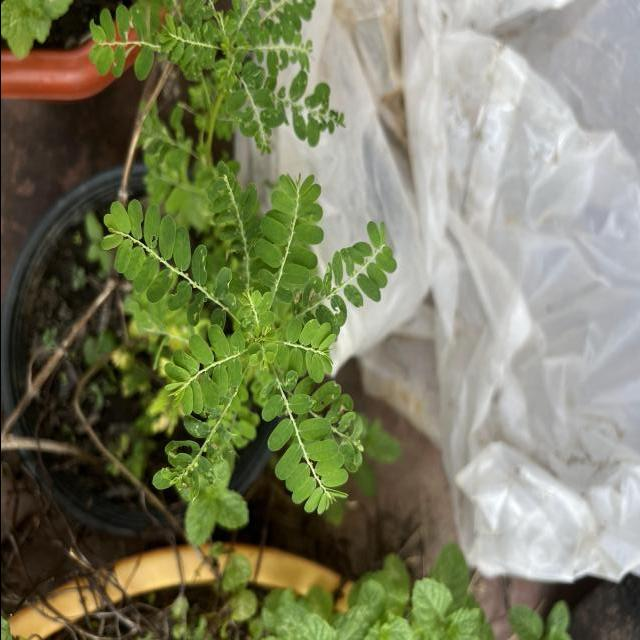Phyllanthus niruri: (99, 196, 238, 338), (257, 368, 352, 518), (297, 217, 398, 336), (251, 168, 325, 310), (160, 324, 243, 416), (268, 315, 338, 384)
